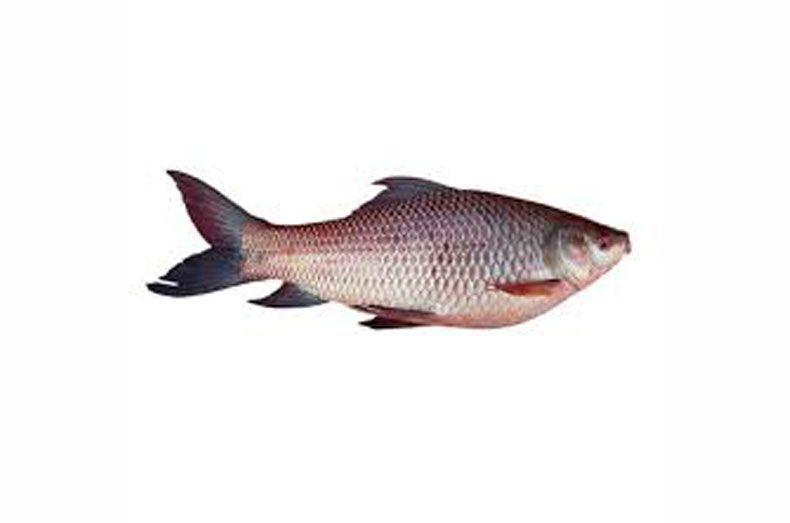Indian Carp: (142, 166, 630, 334)
